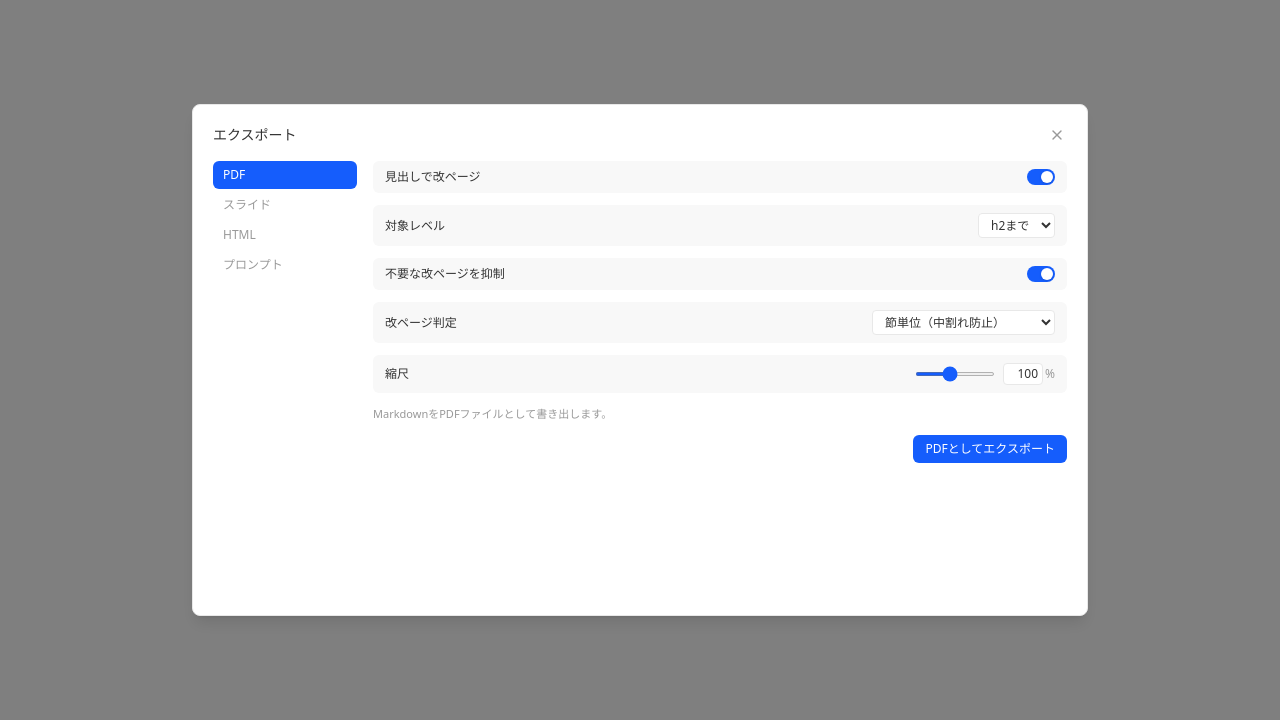
it: ExportDialog › PDF セクション › トグル OFF で対象レベルセレクトが非表示
Click the button "PDF" at x=285, y=175, box [213,161,357,189]
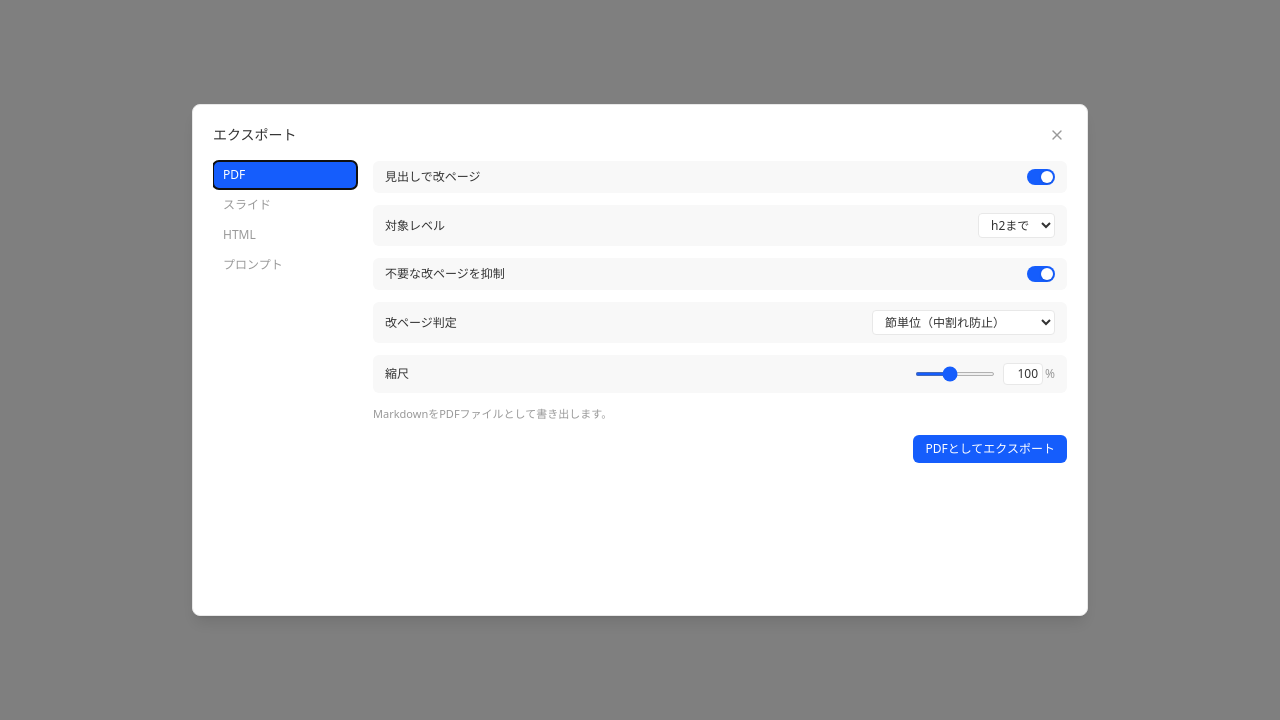
Click the switch named "見出しで改ページ" in the row of "見出しで改ページ" at x=1041, y=177, box [1027,169,1055,185]
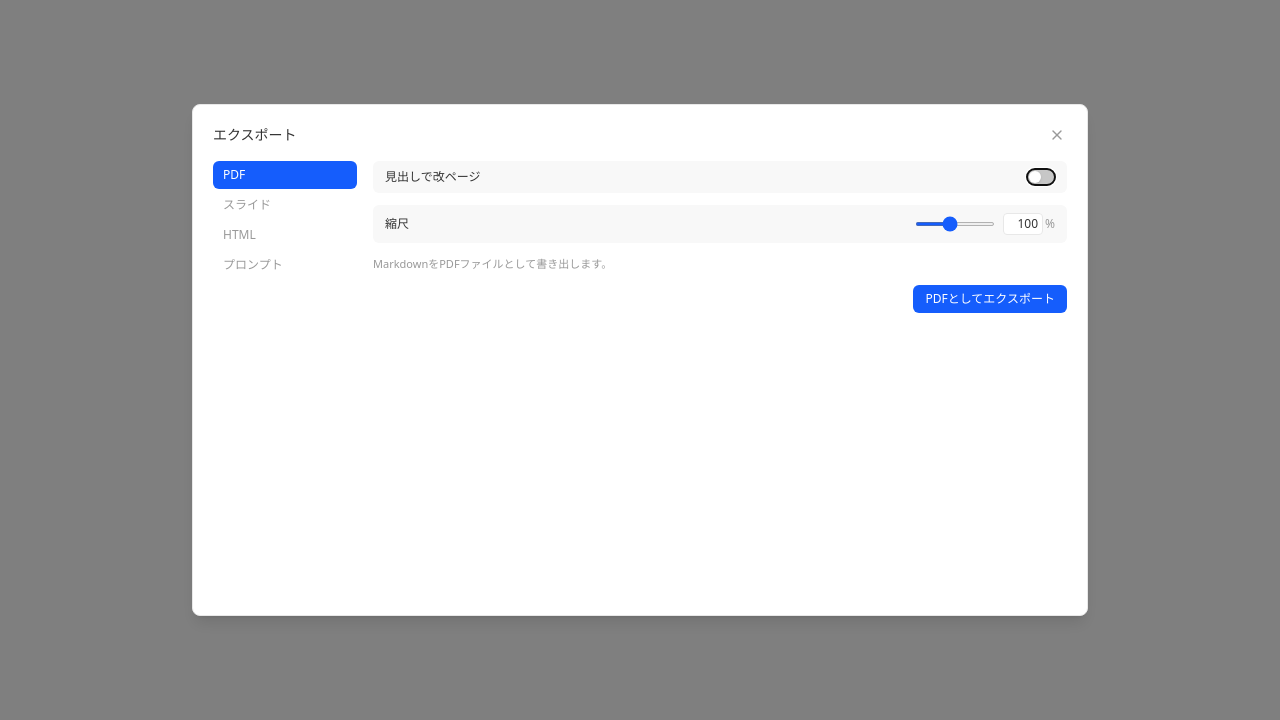
Now the text "対象レベル" is gone
